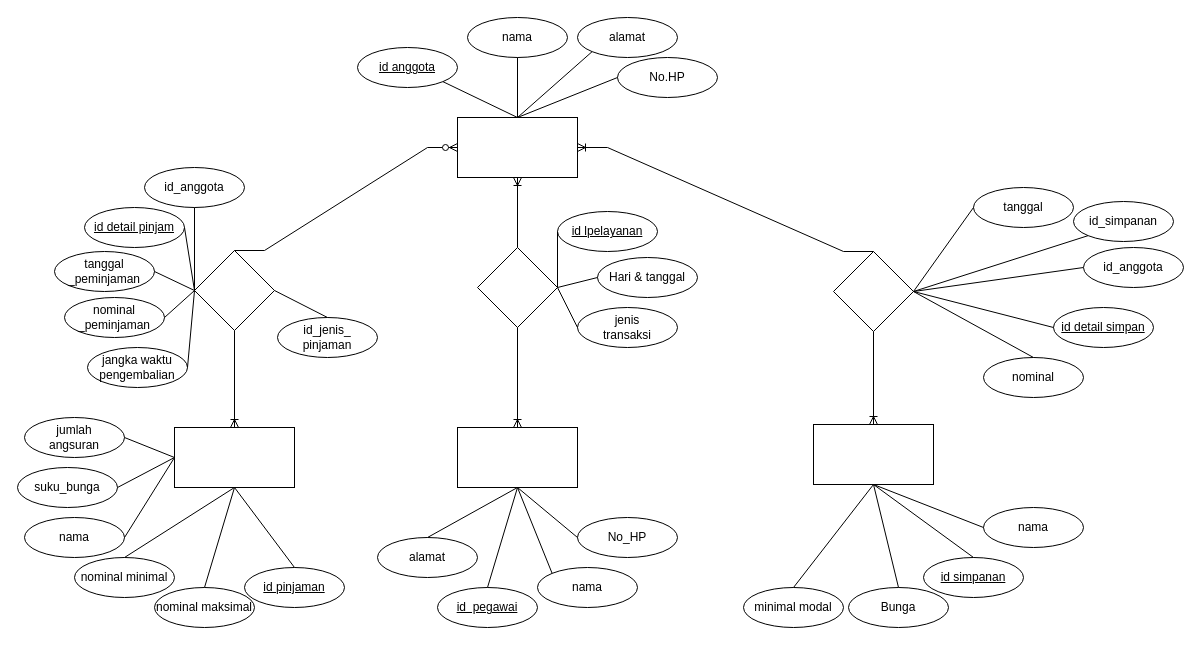
Some shapes in this 1201 by 645 pixel diagram are drawn without their labels. The shapes that lost their labels are listed below. From the top down, each one's box as (x1, y1, x2, y2) in pixels, then its label:
(456, 116, 578, 178): Anggota
(194, 250, 274, 330): Pinjam
(476, 246, 558, 328): Layani
(832, 250, 914, 332): Simpan
(174, 426, 294, 488): Jenis pinjaman
(456, 426, 578, 488): Pegawai
(812, 424, 934, 484): Jenis Simpanan
